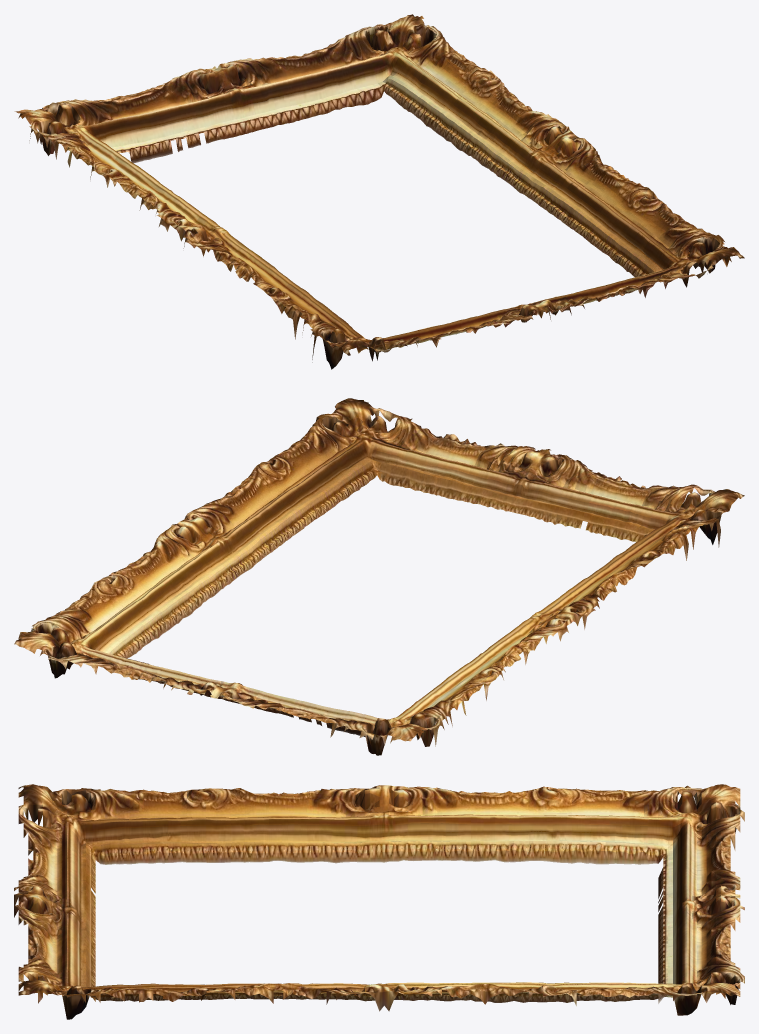
3 renders of one model, top to bottom at view 1: azimuth 30°, elevation 25°; view 2: azimuth 150°, elevation 25°; view 3: azimuth 270°, elevation 25°, orthographic. The views are drawn at different scales.
Parts seen in each view (by area): view 1: a580e91f682e3c3ceef492c5af3d2f22; view 2: a580e91f682e3c3ceef492c5af3d2f22; view 3: a580e91f682e3c3ceef492c5af3d2f22.
Boxes of the visible parts, x1=… form: a580e91f682e3c3ceef492c5af3d2f22: x1=14, y1=14, x2=744, y2=369; a580e91f682e3c3ceef492c5af3d2f22: x1=14, y1=398, x2=744, y2=755; a580e91f682e3c3ceef492c5af3d2f22: x1=14, y1=784, x2=744, y2=1019.
Size of the model in its own units: 63.85 by 7.66 by 92.68.
